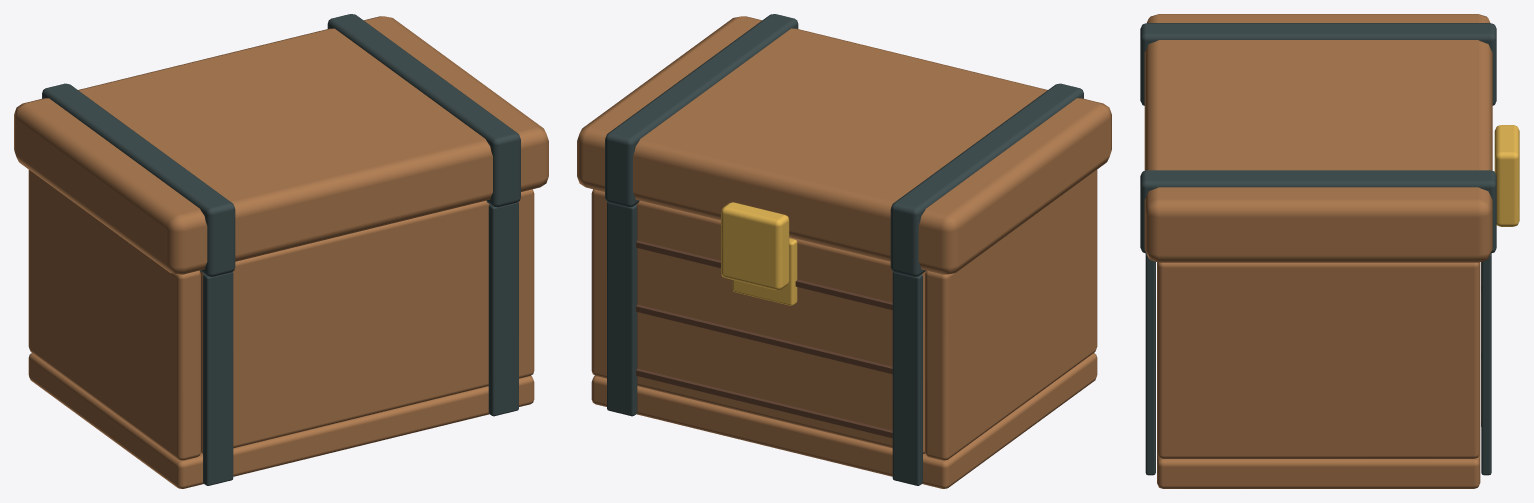
Rendered from treasure-chest.glb.
The picture shows the model from 3 angles, left to right: view 1: azimuth 30°, elevation 25°; view 2: azimuth 150°, elevation 25°; view 3: azimuth 270°, elevation 25°; orthographic projection. The views are drawn at different scales.
Parts seen in each view (by area): view 1: lid, end-0.355, side--0.49, base, lid-band--0.42, lid-band-0.42, body-band--0.42-0.405, body-band-0.42-0.405, side-0.49; view 2: lid, end--0.355, side--0.49, base, lid-band--0.42, lid-band-0.42, body-band--0.42--0.405, body-band-0.42--0.405, latch, side-0.49, plank-seam-0.13, plank-seam-0.31 (+2 smaller); view 3: lid, side-0.49, base, lid-band-0.42, lid-band--0.42, latch, body-band-0.42-0.405, body-band-0.42--0.405.
Boxes of the visible parts, <box> form: lid: <box>14,16,548,274</box>; end-0.355: <box>200,200,489,453</box>; side--0.49: <box>28,170,200,460</box>; base: <box>28,353,534,488</box>; lid-band--0.42: <box>42,83,235,276</box>; lid-band-0.42: <box>327,14,520,207</box>; body-band--0.42-0.405: <box>203,271,233,485</box>; body-band-0.42-0.405: <box>488,202,518,416</box>; side-0.49: <box>518,189,534,378</box>; lid: <box>577,16,1111,274</box>; end--0.355: <box>636,200,925,453</box>; side--0.49: <box>925,170,1097,460</box>; base: <box>591,353,1097,488</box>; lid-band--0.42: <box>890,83,1083,276</box>; lid-band-0.42: <box>605,14,798,207</box>; body-band--0.42--0.405: <box>892,271,922,485</box>; body-band-0.42--0.405: <box>607,202,637,416</box>; latch: <box>721,202,789,290</box>; side-0.49: <box>591,189,607,378</box>; plank-seam-0.13: <box>636,368,892,438</box>; plank-seam-0.31: <box>636,304,892,374</box>; lid: <box>1144,14,1492,262</box>; side-0.49: <box>1157,262,1480,458</box>; base: <box>1157,453,1480,488</box>; lid-band-0.42: <box>1140,170,1496,253</box>; lid-band--0.42: <box>1140,23,1496,105</box>; latch: <box>1494,125,1519,226</box>; body-band-0.42-0.405: <box>1145,253,1155,475</box>; body-band-0.42--0.405: <box>1481,253,1491,475</box>.
Bounding box in the file's own units: 1.12 × 0.7925 × 0.915.
